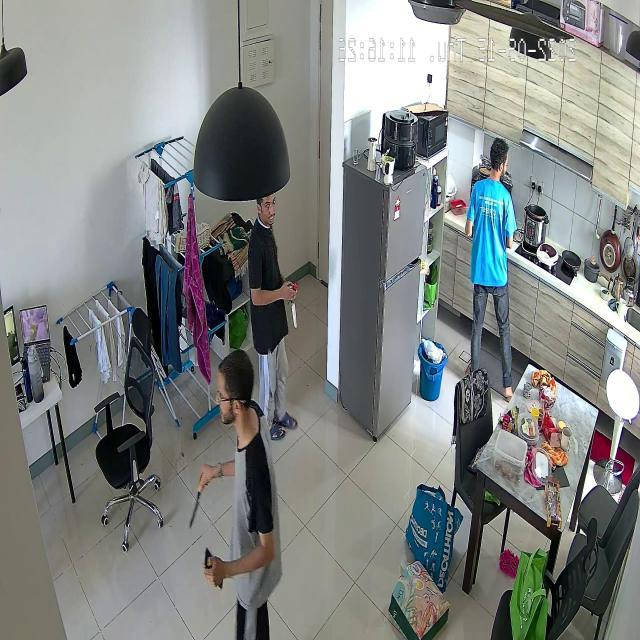Knife: (187, 475, 216, 536), (286, 292, 308, 333)
